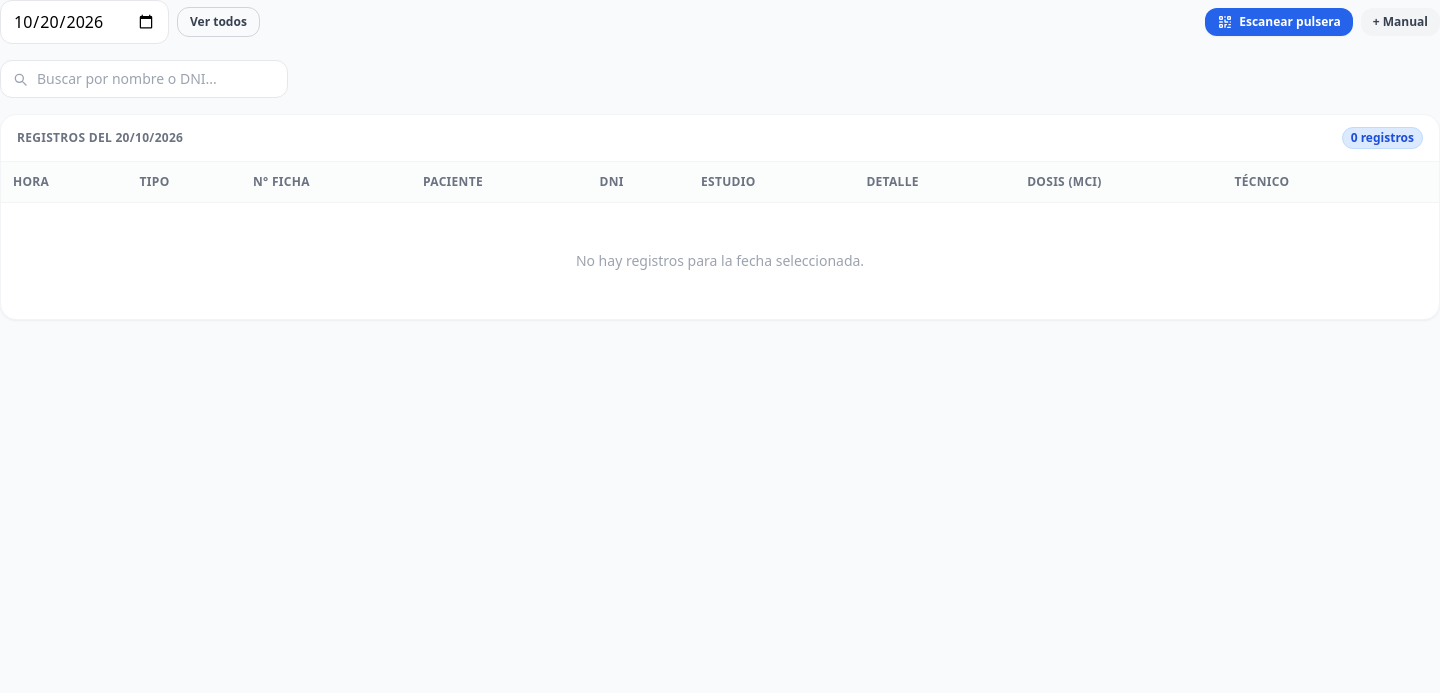
Test: TabPacientes -- Gestión I-131, Dosis de barrido corporal no muestra 'Dosis relacionada' › control positivo -- Captación SÍ sigue mostrando 'Dosis relacionada' (no se rompió con el split)
Click the button "+ Manual" at (1400, 22), box top-left (1361, 8), bottom-right (1439, 36)
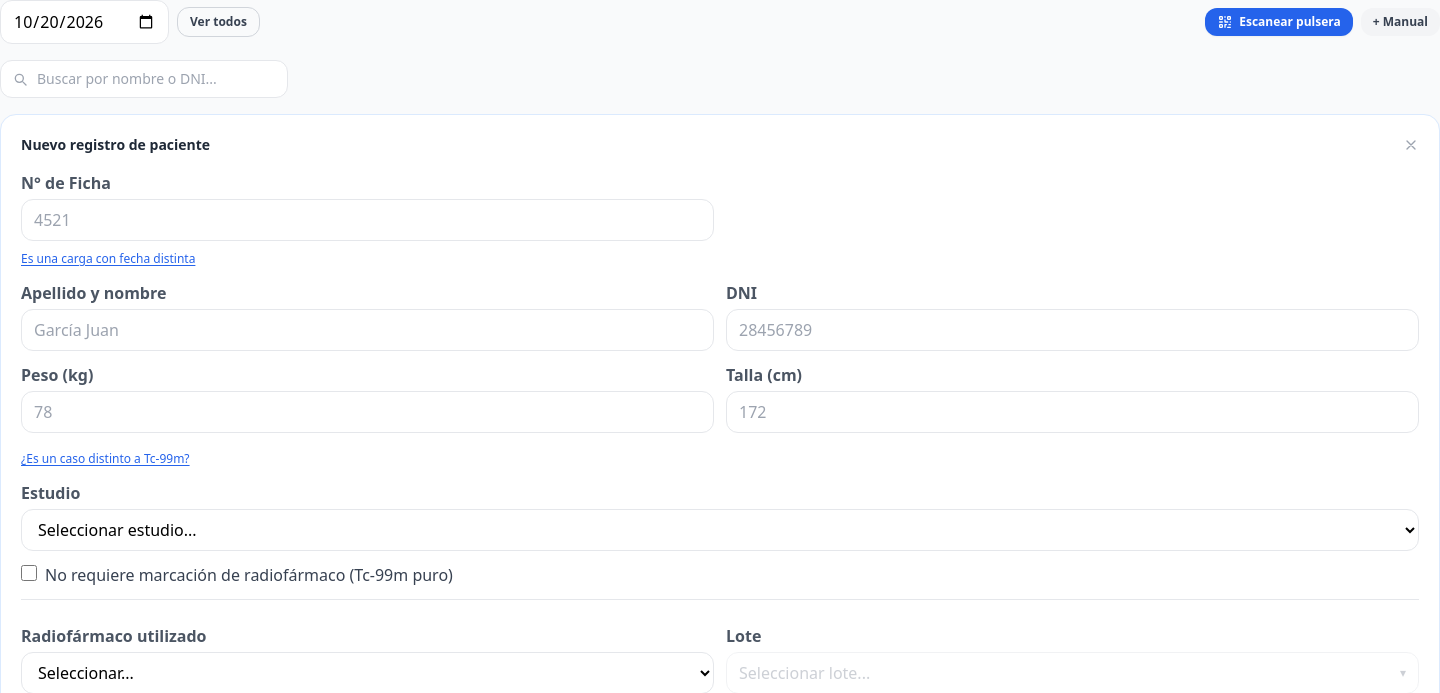
Click the button "¿Es un caso distinto a Tc-99m?" at (105, 459), box top-left (21, 451), bottom-right (190, 467)
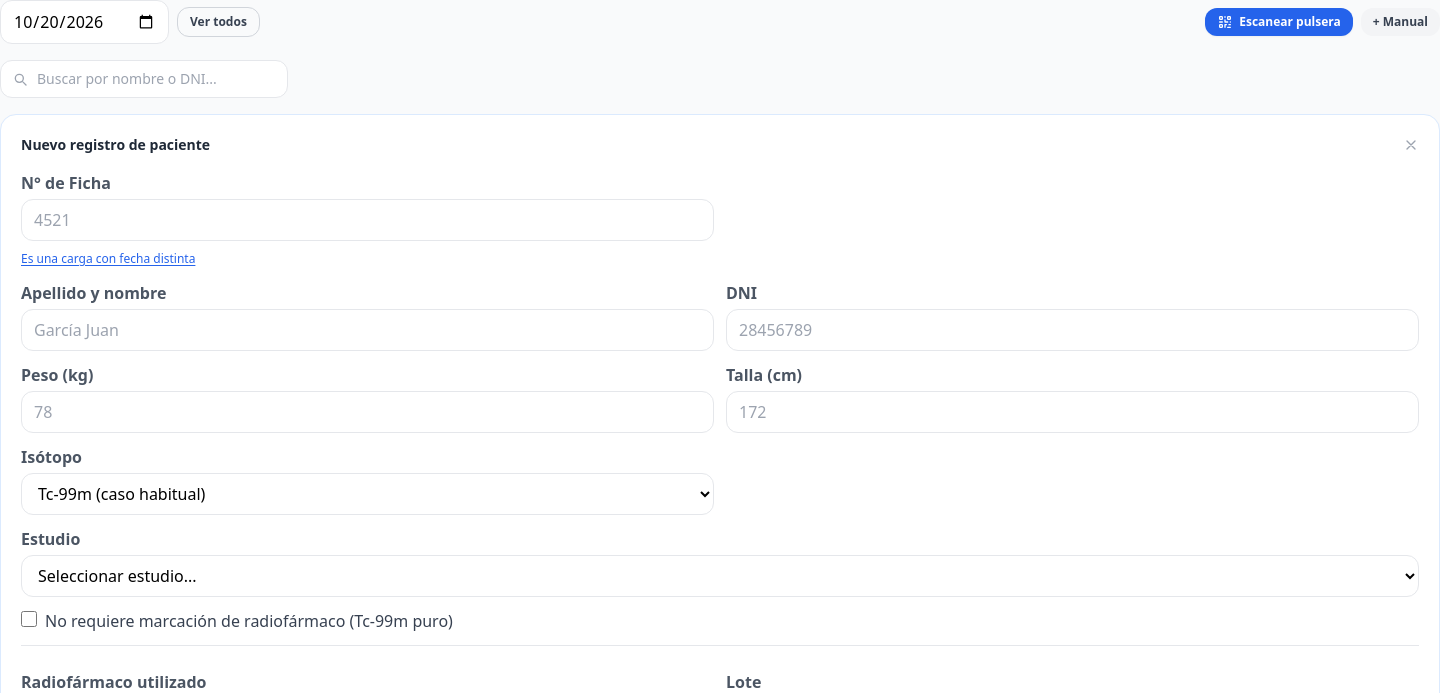
Select "I-131" in the dropdown below "Isótopo" at (368, 494), box top-left (21, 473), bottom-right (714, 515)
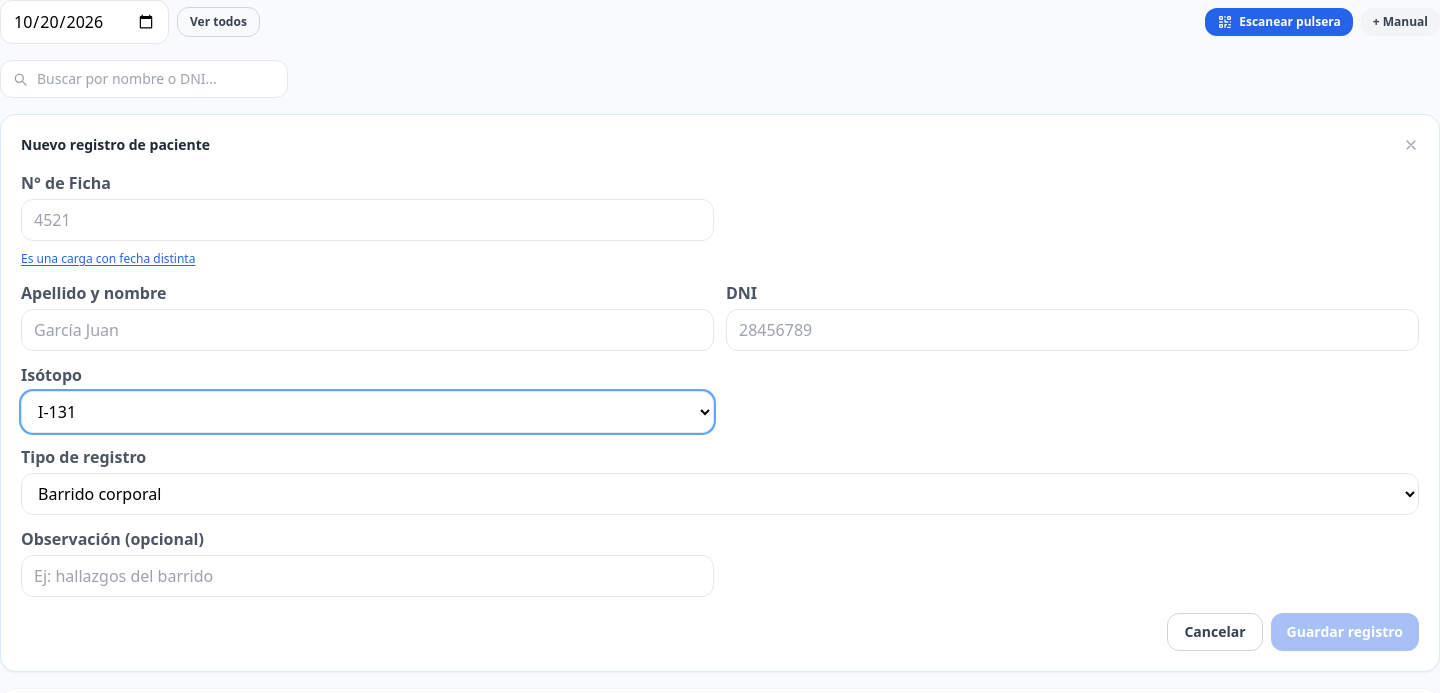
Select "Captación" in the dropdown below "Tipo de registro" at (720, 494), box top-left (21, 473), bottom-right (1419, 515)
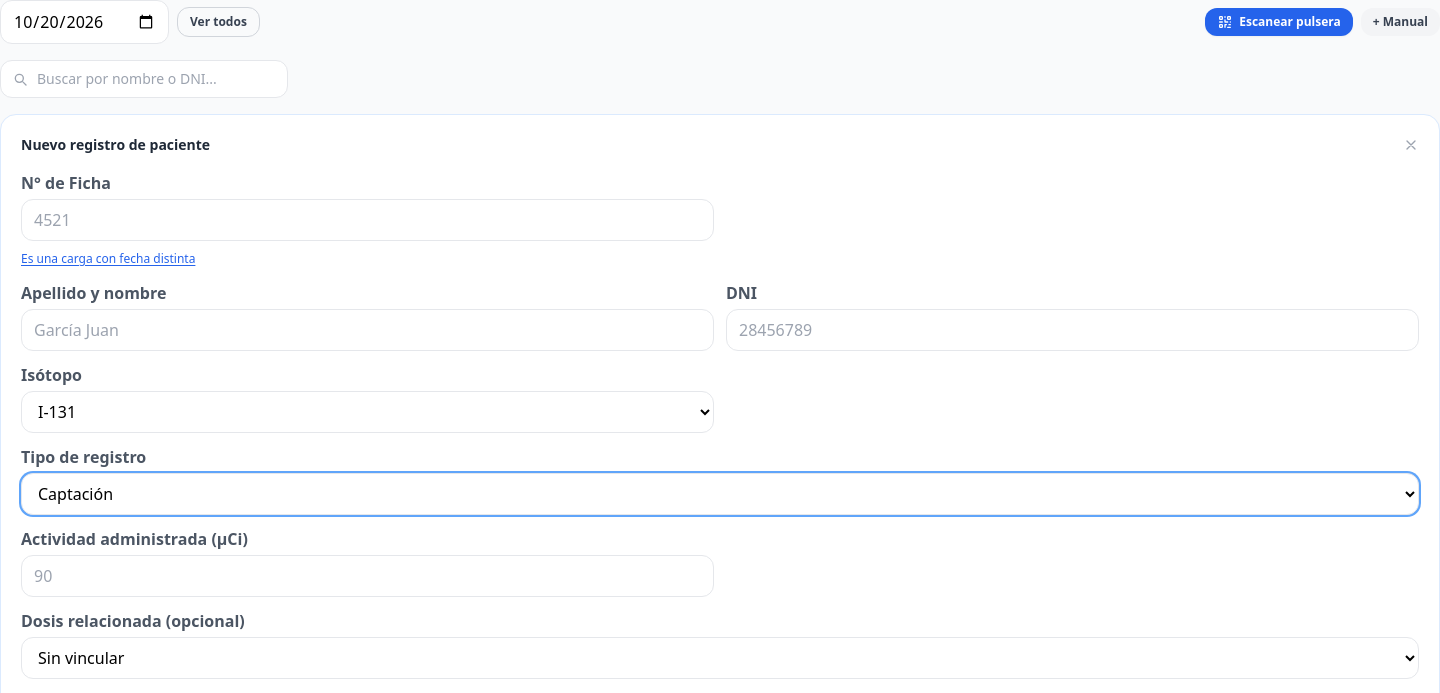
expect the text "Actividad administrada (µCi)" is shown: met, box top-left (21, 528), bottom-right (248, 550)
expect the text "Dosis relacionada (opcional)" is shown: met, box top-left (21, 610), bottom-right (245, 632)
